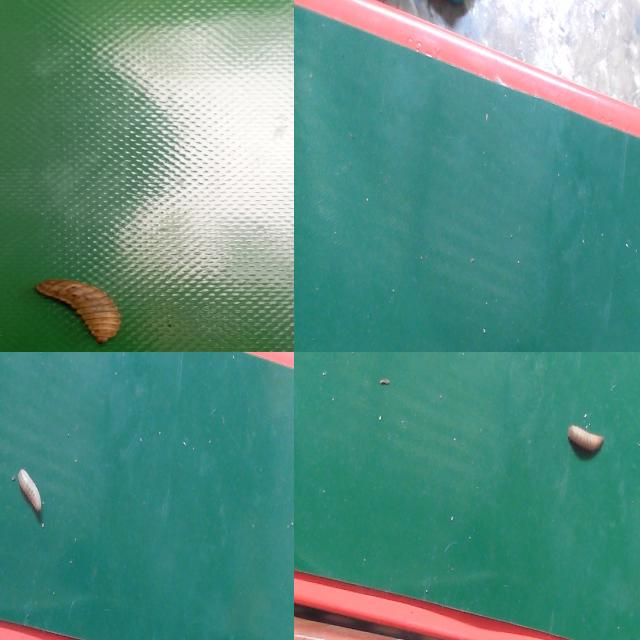Maggot: (34, 279, 122, 346), (16, 471, 46, 526), (566, 425, 607, 461)
